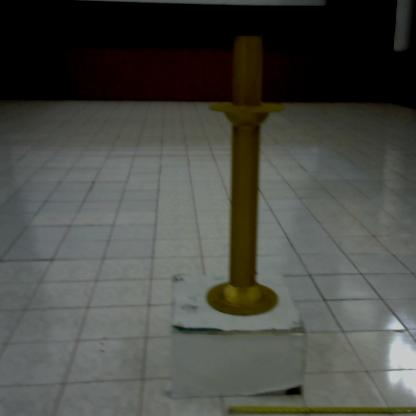pole: (202, 28, 289, 326)
